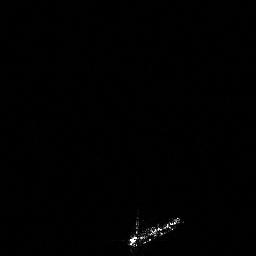ship: (129, 216, 179, 246)
